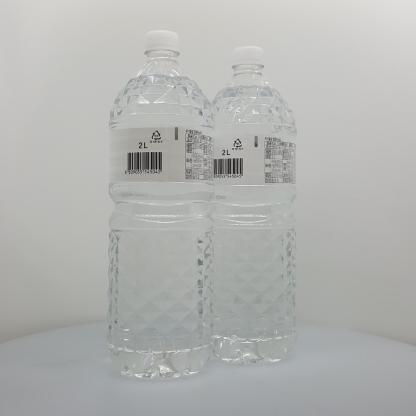--------------: (106, 30, 215, 378), (204, 46, 297, 364)
